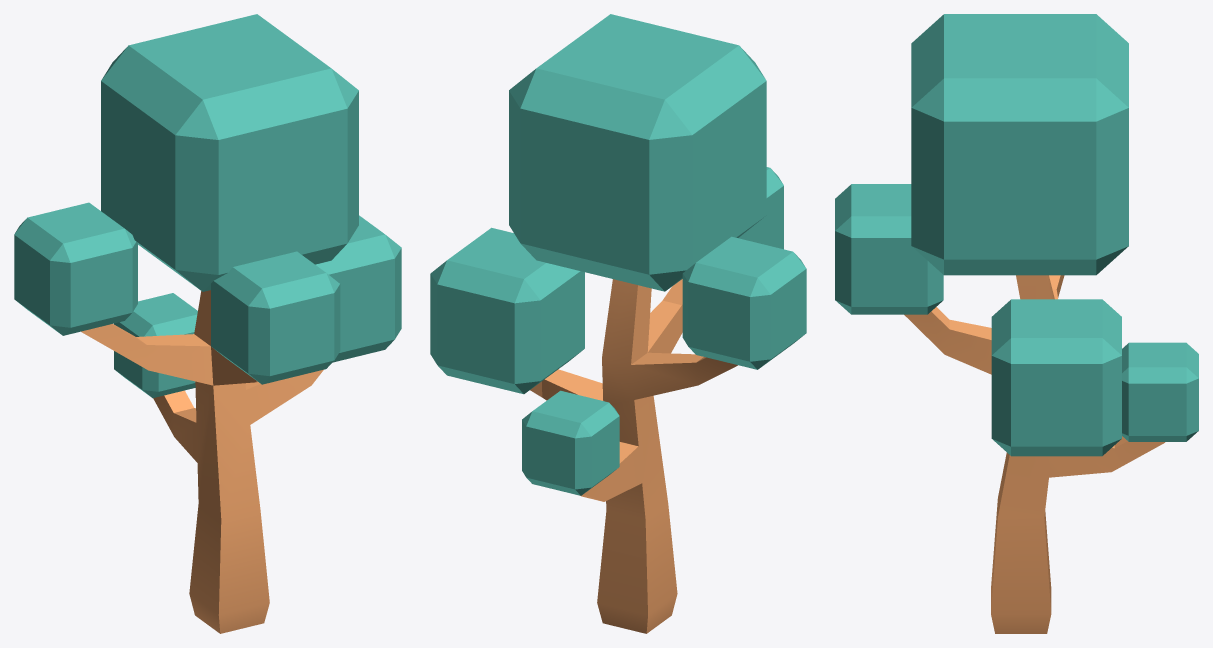
The model's file is tree_detailed.fbx.
3 renders of one model, left to right at view 1: azimuth 30°, elevation 25°; view 2: azimuth 150°, elevation 25°; view 3: azimuth 270°, elevation 25°, orthographic. The views are drawn at different scales.
Visible parts, largest first — view 1: tree_detailed; view 2: tree_detailed; view 3: tree_detailed.
Part boxes in pixels (box(x1,y1,x2,y2)): tree_detailed: box(14, 14, 401, 633); tree_detailed: box(430, 14, 806, 633); tree_detailed: box(835, 14, 1198, 633).
Bounding box in the file's own units: 8.47 × 13.32 × 7.62.
